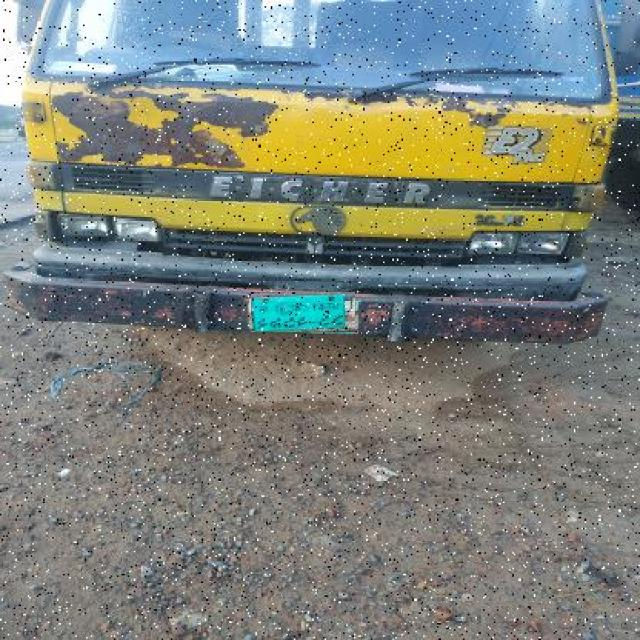numberplate: (251, 292, 355, 332)
